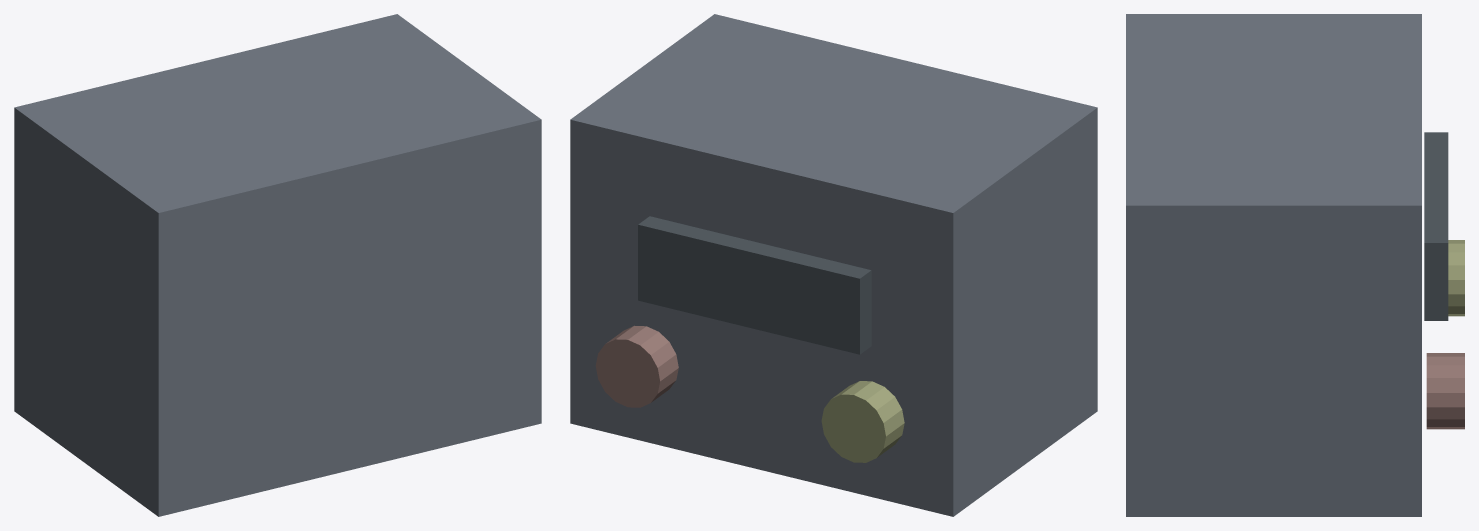
File: loot_inverter.glb
3 views of the same model, side by side, from view 1: azimuth 30°, elevation 25°; view 2: azimuth 150°, elevation 25°; view 3: azimuth 270°, elevation 25° (orthographic). The views are drawn at different scales.
Visible parts, largest first — view 1: unit_0; view 2: unit_0, display_1, knob_2, knob_3; view 3: unit_0, display_1, knob_3, knob_2.
Part boxes in pixels (<box>): unit_0: <box>14,14,541,516</box>; unit_0: <box>570,14,1097,516</box>; display_1: <box>638,216,871,354</box>; knob_2: <box>821,381,904,462</box>; knob_3: <box>595,325,678,407</box>; unit_0: <box>1126,14,1421,516</box>; display_1: <box>1424,132,1448,320</box>; knob_3: <box>1426,353,1464,429</box>; knob_2: <box>1448,240,1464,316</box>.
Size of the model in its own units: 0.95 by 0.72 by 0.71.
